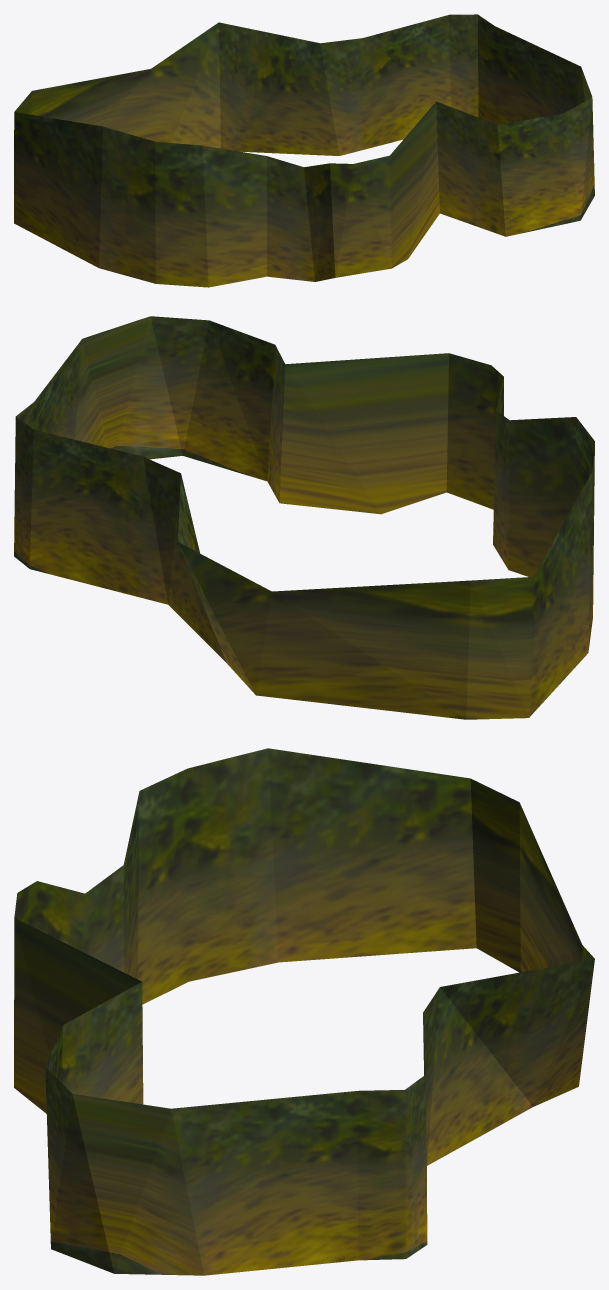
The model's file is Ridge_8_Lat.gltf.
3 renders of one model, top to bottom at view 1: azimuth 30°, elevation 25°; view 2: azimuth 150°, elevation 25°; view 3: azimuth 270°, elevation 25°, orthographic. The views are drawn at different scales.
Parts seen in each view (by area): view 1: Ridge_8_Lat; view 2: Ridge_8_Lat; view 3: Ridge_8_Lat.
Boxes of the visible parts, box(x1,y1,x2,y2) form: Ridge_8_Lat: box(14, 14, 594, 287); Ridge_8_Lat: box(14, 316, 594, 719); Ridge_8_Lat: box(14, 748, 594, 1275).
Bounding box in the file's own units: 59.58 × 17.8 × 43.26.
Materials: 1 (1 with a texture image).
